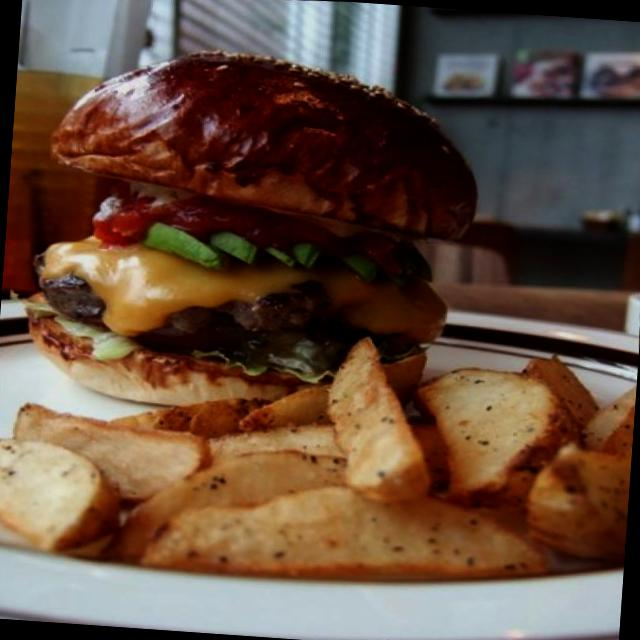Hamburger: (21, 29, 502, 424)
